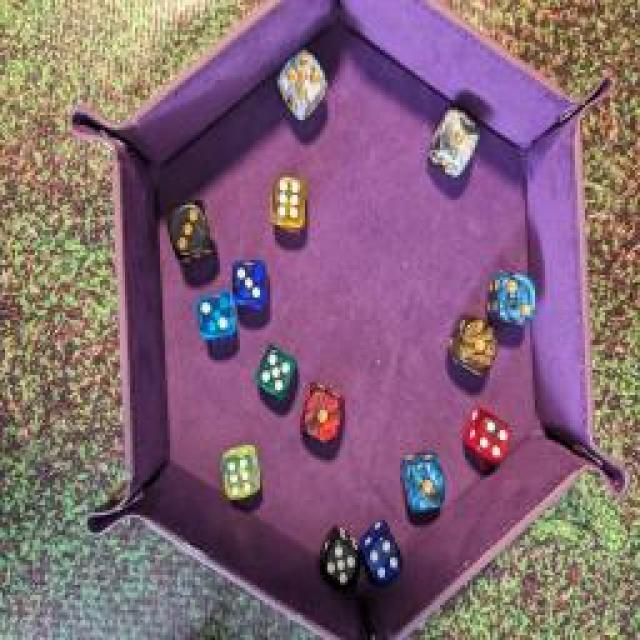dice_1: (424, 100, 481, 178), (395, 450, 450, 518), (296, 376, 346, 449), (445, 314, 500, 378)
dice_2: (488, 267, 540, 335), (193, 286, 245, 346)
dice_3: (162, 196, 218, 264), (229, 252, 271, 310)
dice_4: (357, 519, 405, 586), (461, 402, 511, 466)
dice_5: (274, 48, 334, 128), (316, 522, 362, 588), (251, 340, 299, 400)
dice_6: (216, 445, 266, 503), (266, 168, 309, 230)
